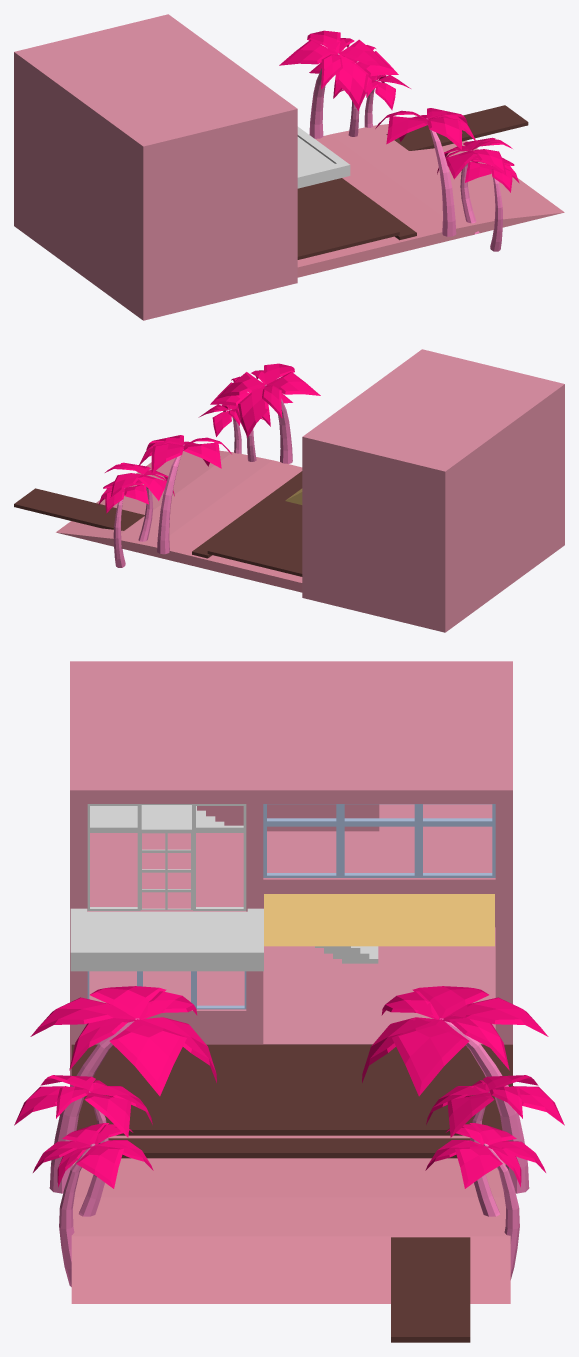
Rendered from beach.fbx.
3 views of the same model, one above another, from view 1: azimuth 30°, elevation 25°; view 2: azimuth 150°, elevation 25°; view 3: azimuth 270°, elevation 25° (orthographic). The views are drawn at different scales.
Visible parts, largest first — view 1: Cube.010, Cube, Cube.007, Cube.008, Cube.016, Cube.001, Cube.009, Plane.020, Plane.024, Cube.004, Plane.002, Plane.006 (+7 smaller); view 2: Cube.010, Cube, Cube.007, Cube.008, Cube.009, Cube.004, Plane, Plane.006, Cube.001, Plane.021, Plane.024, Plane.007 (+6 smaller); view 3: Cube.010, Cube, Cube.007, Cube.012, Cube.016, Cube.008, Cube.009, Cube.014, Cube.011, Plane.007, Plane.025, Cube.001 (+20 smaller).
Boxes of the visible parts, left/top/right/bottom form: Cube.010: left=14, top=14, right=297, bottom=320; Cube: left=297, top=124, right=564, bottom=277; Cube.007: left=297, top=181, right=399, bottom=259; Cube.008: left=386, top=105, right=528, bottom=150; Cube.016: left=297, top=126, right=350, bottom=188; Cube.001: left=426, top=118, right=456, bottom=236; Cube.009: left=330, top=178, right=416, bottom=240; Plane.020: left=335, top=55, right=368, bottom=110; Plane.024: left=279, top=39, right=337, bottom=65; Cube.004: left=309, top=53, right=339, bottom=138; Plane.002: left=427, top=117, right=462, bottom=149; Plane.006: left=386, top=116, right=427, bottom=144; Cube.010: left=302, top=349, right=564, bottom=632; Cube: left=56, top=450, right=302, bottom=592; Cube.007: left=207, top=482, right=302, bottom=576; Cube.008: left=14, top=488, right=144, bottom=530; Cube.009: left=192, top=471, right=302, bottom=558; Cube.004: left=157, top=444, right=184, bottom=554; Plane: left=238, top=386, right=268, bottom=437; Plane.006: left=266, top=372, right=320, bottom=395; Cube.001: left=265, top=384, right=292, bottom=463; Plane.021: left=151, top=443, right=183, bottom=473; Plane.024: left=183, top=442, right=221, bottom=468; Plane.007: left=217, top=372, right=265, bottom=398; Cube.010: left=70, top=661, right=512, bottom=1085; Cube: left=71, top=1135, right=510, bottom=1303; Cube.007: left=71, top=1044, right=512, bottom=1135; Cube.012: left=264, top=894, right=494, bottom=946; Cube.016: left=70, top=908, right=263, bottom=971; Cube.008: left=391, top=1237, right=470, bottom=1342; Cube.009: left=108, top=1138, right=470, bottom=1158; Cube.014: left=263, top=804, right=495, bottom=877; Cube.011: left=90, top=805, right=378, bottom=963; Plane.007: left=109, top=1019, right=186, bottom=1096; Plane.025: left=392, top=1019, right=469, bottom=1096; Cube.001: left=49, top=1018, right=139, bottom=1193.
Bounding box in the file's own units: 3197 × 1223 × 1861.
